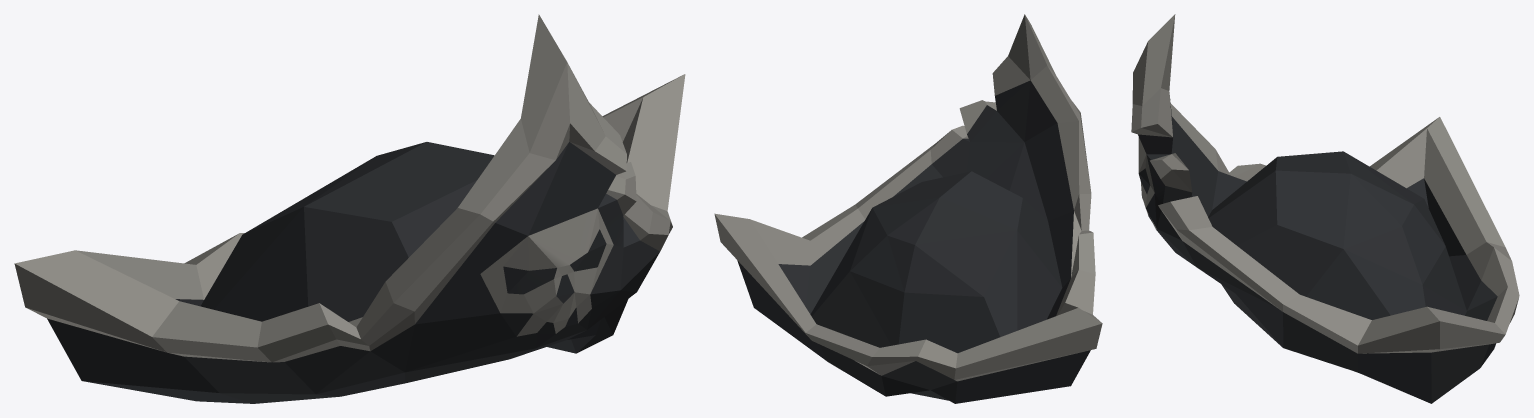
Rendered from SM_Chr_Attach_Hat_02.fbx.
3 views of the same model, side by side, from view 1: azimuth 30°, elevation 25°; view 2: azimuth 150°, elevation 25°; view 3: azimuth 270°, elevation 25° (orthographic). The views are drawn at different scales.
Parts seen in each view (by area): view 1: SM_Chr_Attach_Hat_02; view 2: SM_Chr_Attach_Hat_02; view 3: SM_Chr_Attach_Hat_02.
Part boxes in pixels (x1=…): SM_Chr_Attach_Hat_02: x1=14, y1=14, x2=685, y2=403; SM_Chr_Attach_Hat_02: x1=714, y1=14, x2=1102, y2=403; SM_Chr_Attach_Hat_02: x1=1131, y1=14, x2=1519, y2=403.
Bounding box in the file's own units: 66.21 × 47.13 × 48.85.
